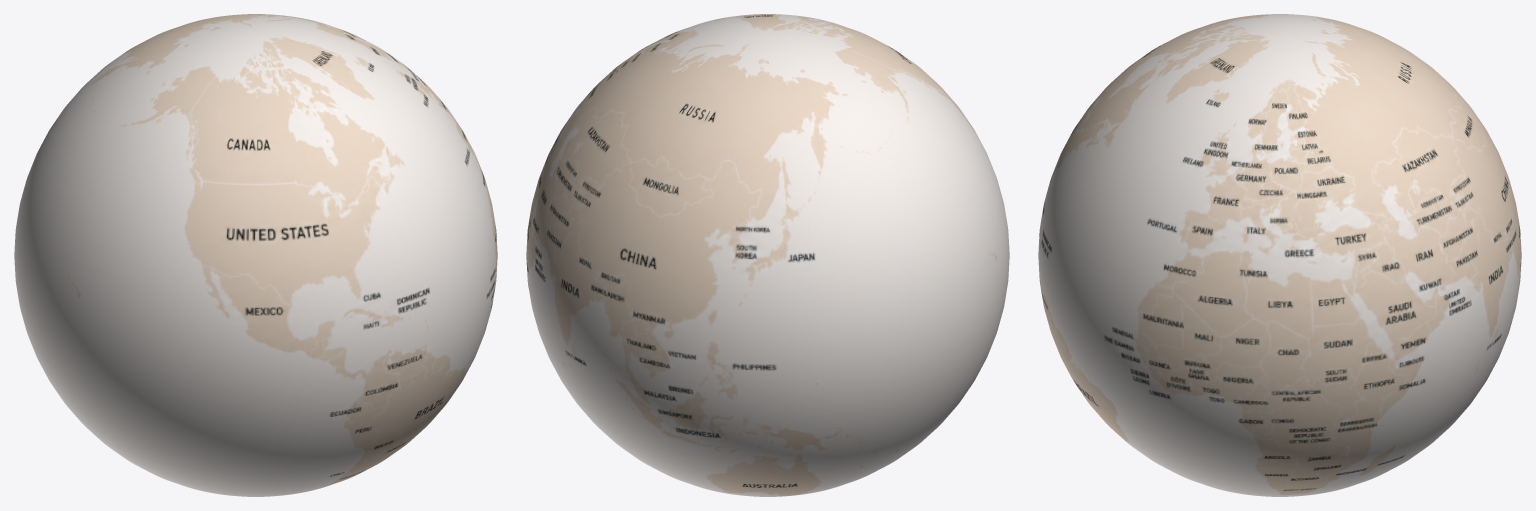
Rendered from Globe.glb.
3 renders of one model, left to right at view 1: azimuth 30°, elevation 25°; view 2: azimuth 150°, elevation 25°; view 3: azimuth 270°, elevation 25°, orthographic.
Visible parts, largest first — view 1: Sphere; view 2: Sphere; view 3: Sphere.
Boxes of the visible parts, left/top/right/bottom form: Sphere: left=14, top=14, right=497, bottom=496; Sphere: left=526, top=14, right=1009, bottom=496; Sphere: left=1038, top=14, right=1521, bottom=496.
Bounding box in the file's own units: 1.99 × 2 × 1.99.
Materials: 1 (1 with a texture image).
